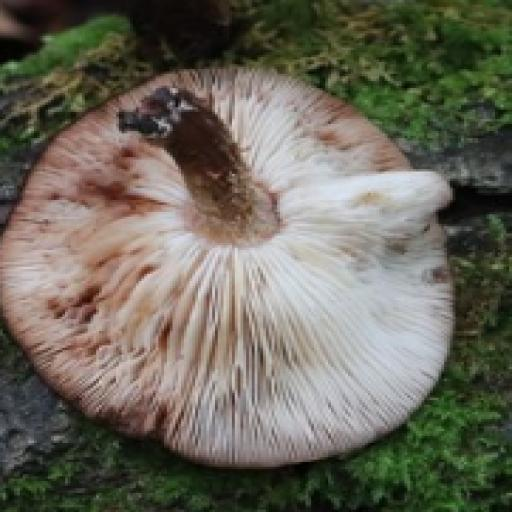Shiitake Mushroom: (24, 83, 446, 441)
